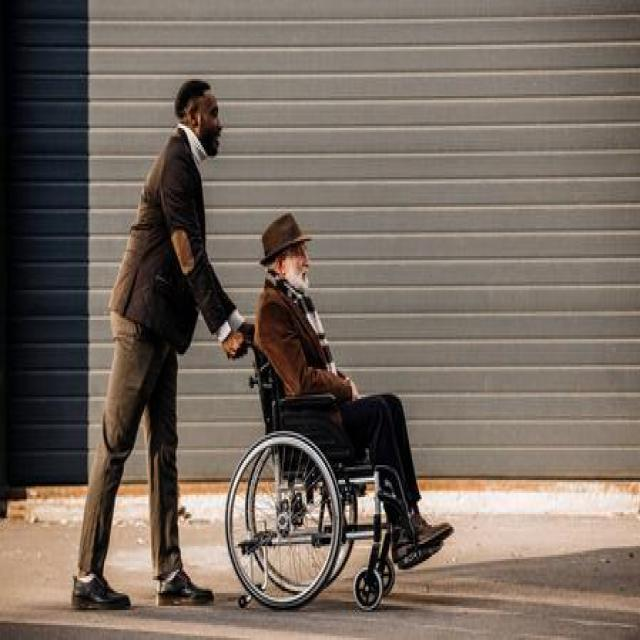wheelchairs: (205, 312, 451, 618)
